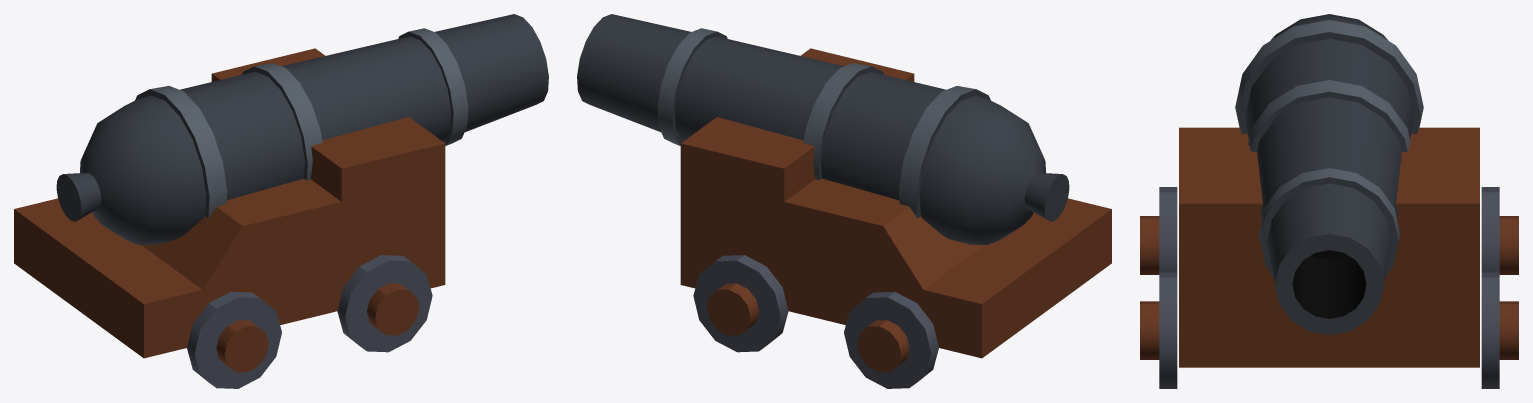
File: Cannon.fbx
3 renders of one model, left to right at view 1: azimuth 30°, elevation 25°; view 2: azimuth 150°, elevation 25°; view 3: azimuth 270°, elevation 25°, orthographic. The views are drawn at different scales.
Visible parts, largest first — view 1: Cannon_Car, Cannon_Body; view 2: Cannon_Car, Cannon_Body; view 3: Cannon_Car, Cannon_Body.
Boxes of the visible parts, x1=… form: Cannon_Car: x1=14, y1=48, x2=445, y2=388; Cannon_Body: x1=56, y1=14, x2=548, y2=244; Cannon_Car: x1=680, y1=48, x2=1111, y2=388; Cannon_Body: x1=577, y1=14, x2=1069, y2=244; Cannon_Car: x1=1140, y1=127, x2=1518, y2=388; Cannon_Body: x1=1235, y1=14, x2=1423, y2=334.
Size of the model in its own units: 180 by 89.88 by 111.
